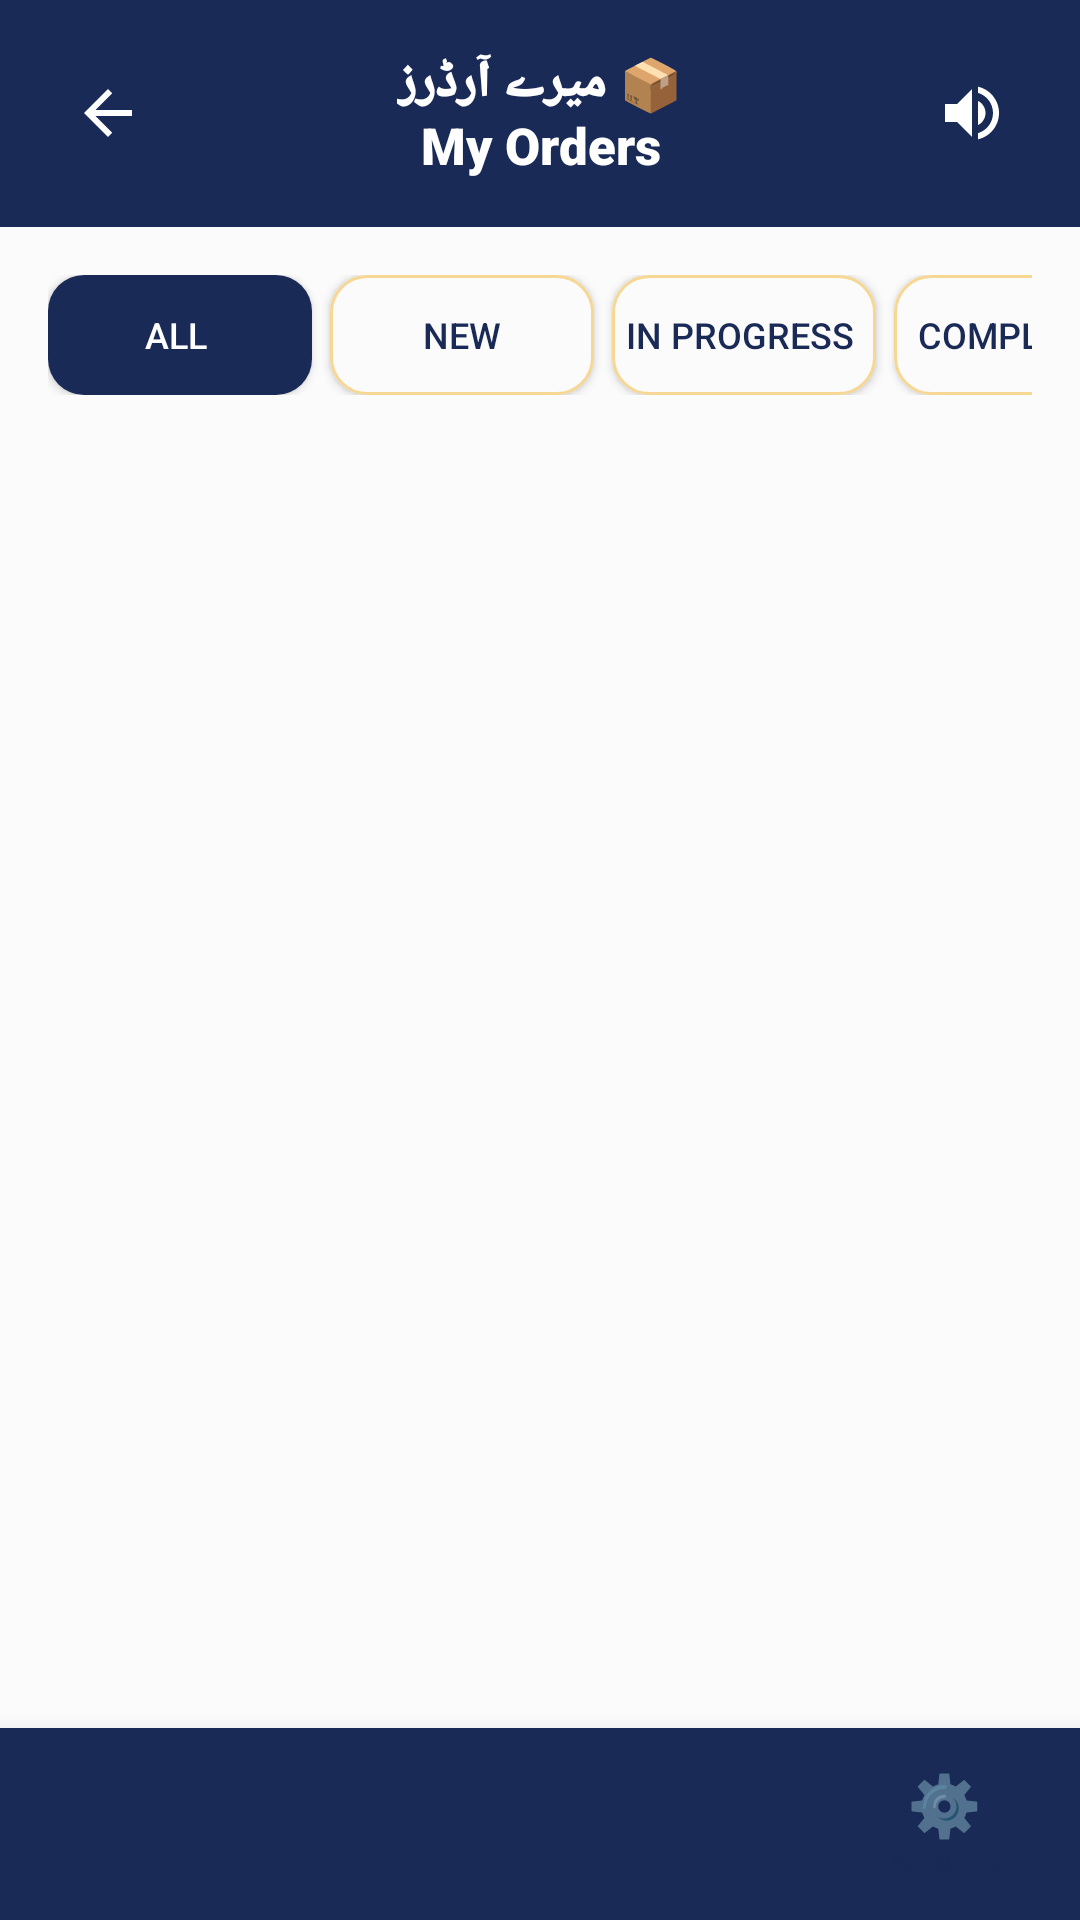

Screen size 1080 × 1920. Icon name, then its box in pixels as (x1,y1,x2,y2):
Back: (84,89,132,137)
Speaker: (945,86,999,140)
